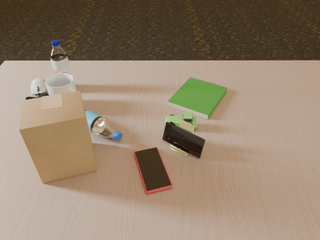book: (167, 77, 227, 119)
bottle: (85, 108, 122, 141), (50, 40, 71, 75)
box: (19, 91, 97, 183)
cup: (45, 73, 76, 95)
mouse: (31, 78, 47, 96)
phone: (134, 147, 173, 194), (163, 122, 205, 158)
toy_car: (165, 112, 197, 128)
